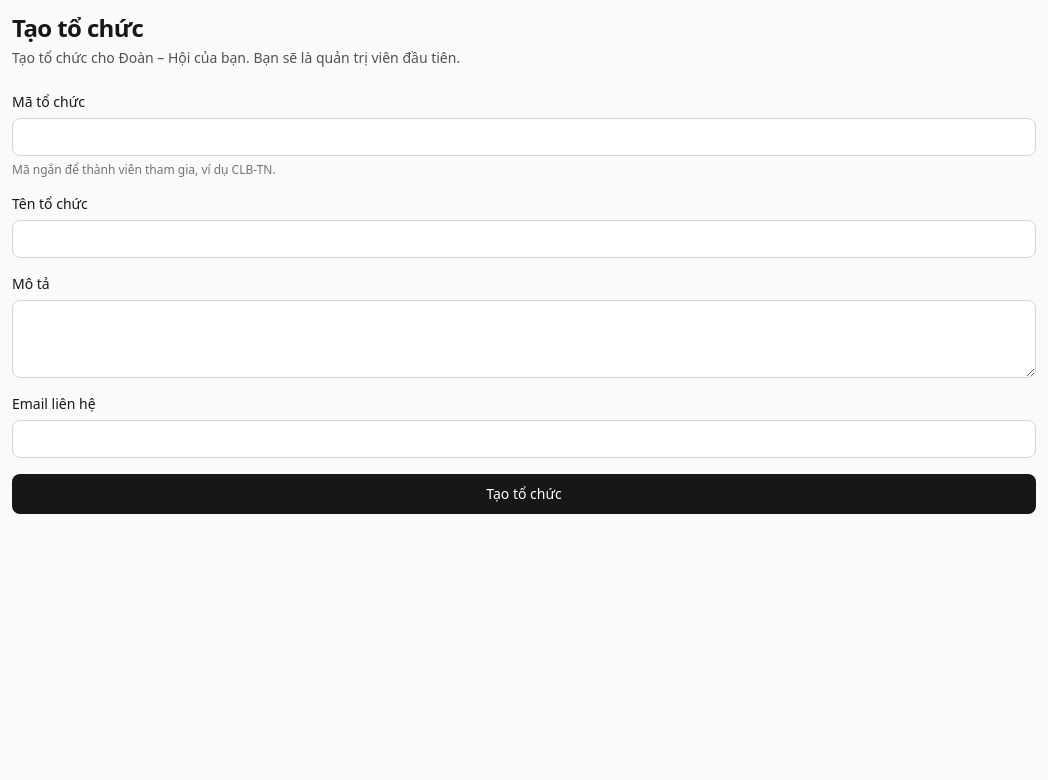
Test: OrgForm — /orgs/new › shows the generic banner for uncoded failures
Type "CLB-X" into the field labelled "Mã tổ chức" at (524, 137), box [12,118,1036,156]
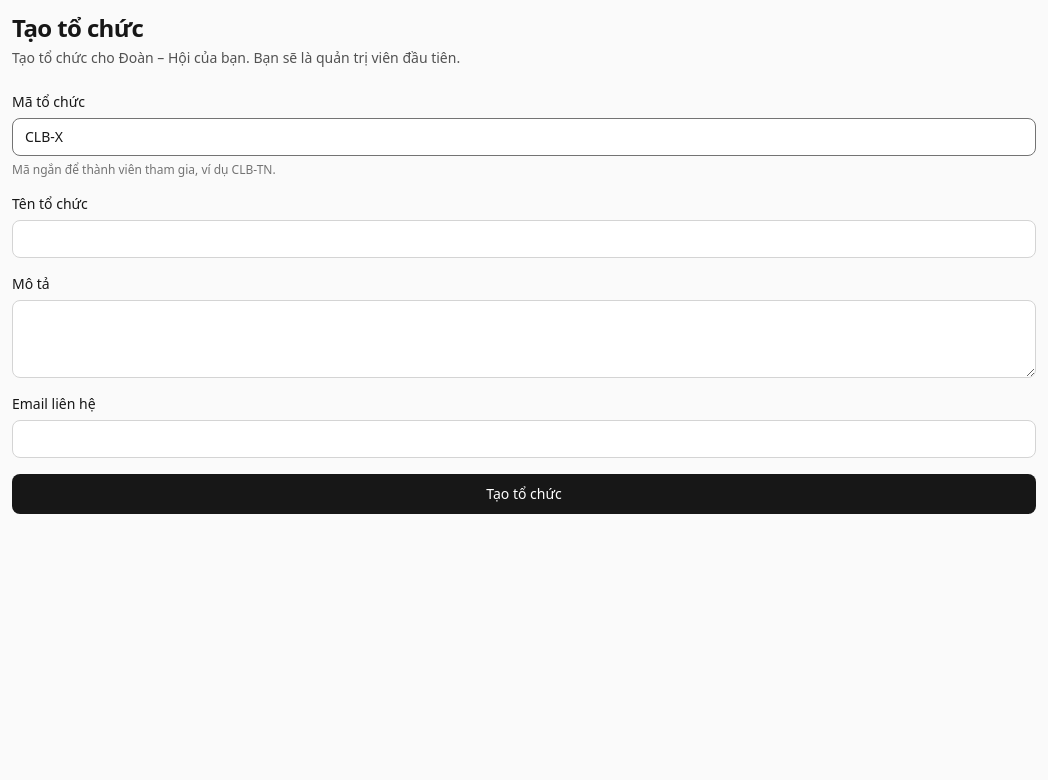
Type "X" into the field labelled "Tên tổ chức" at (524, 239), box [12,220,1036,258]
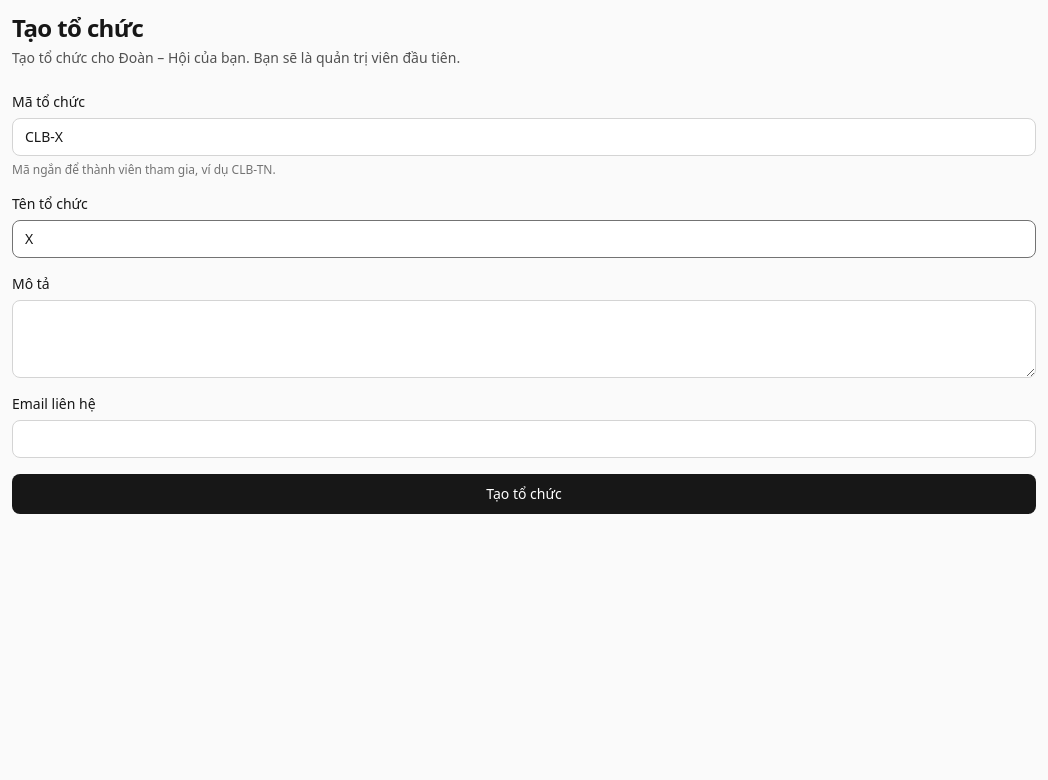
Click the button "Tạo tổ chức" at (524, 494), box [12,474,1036,514]
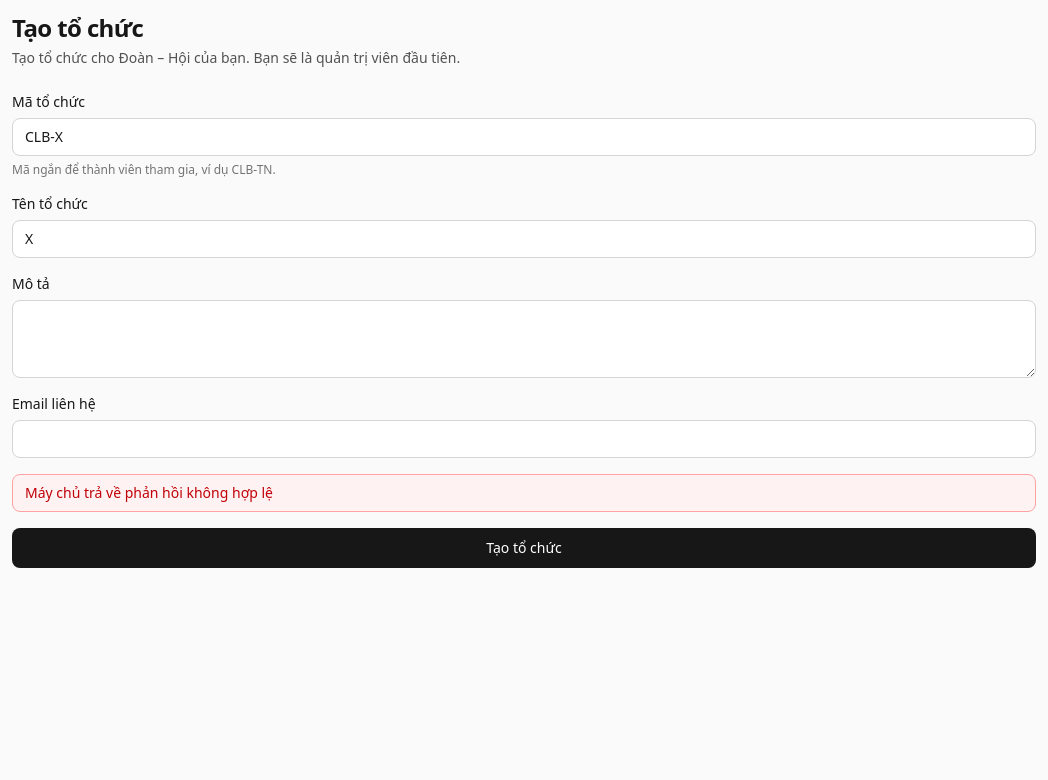
Check: the message reads "Máy chủ trả về phản hồi không hợp lệ", box [25,483,273,502]
